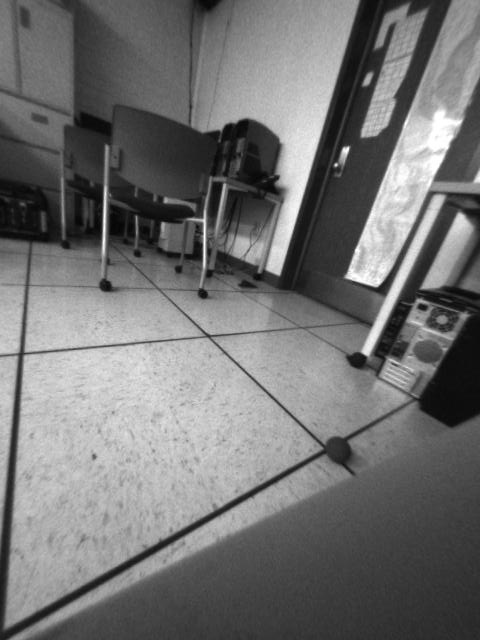dogtoy: (318, 431, 358, 469)
